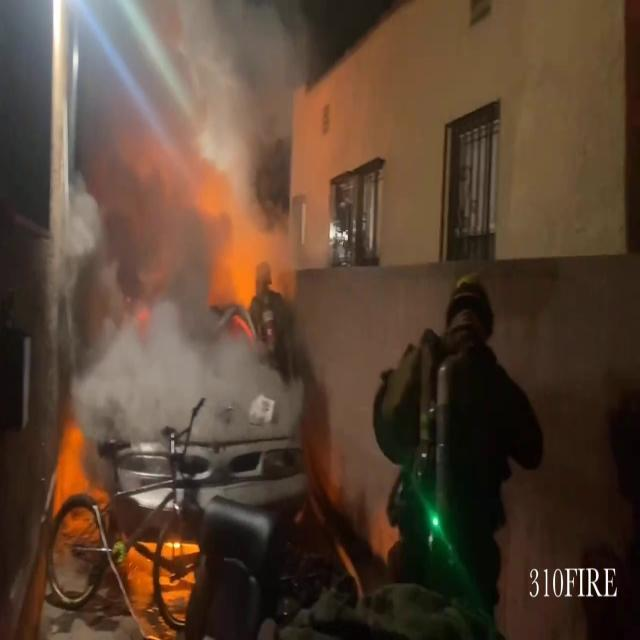Smoke: (51, 1, 345, 443)
